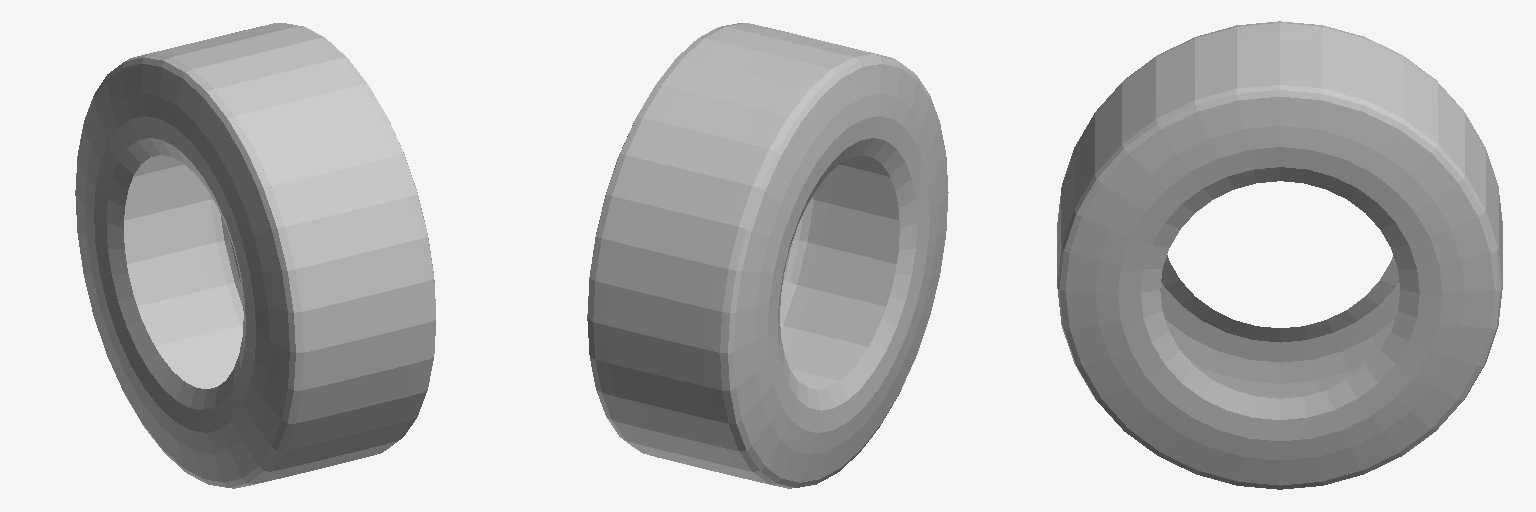
Rendered from car_tire.obj.
3 renders of one model, left to right at view 1: azimuth 30°, elevation 25°; view 2: azimuth 150°, elevation 25°; view 3: azimuth 270°, elevation 25°, orthographic.
Visible parts, largest first — view 1: tire; view 2: tire; view 3: tire.
Part boxes in pixels (x1,y1,x2,y2): tire: (75, 23, 435, 488); tire: (587, 23, 948, 488); tire: (1057, 21, 1502, 489).
Bounding box in the file's own units: 2.74 × 6.57 × 6.57.